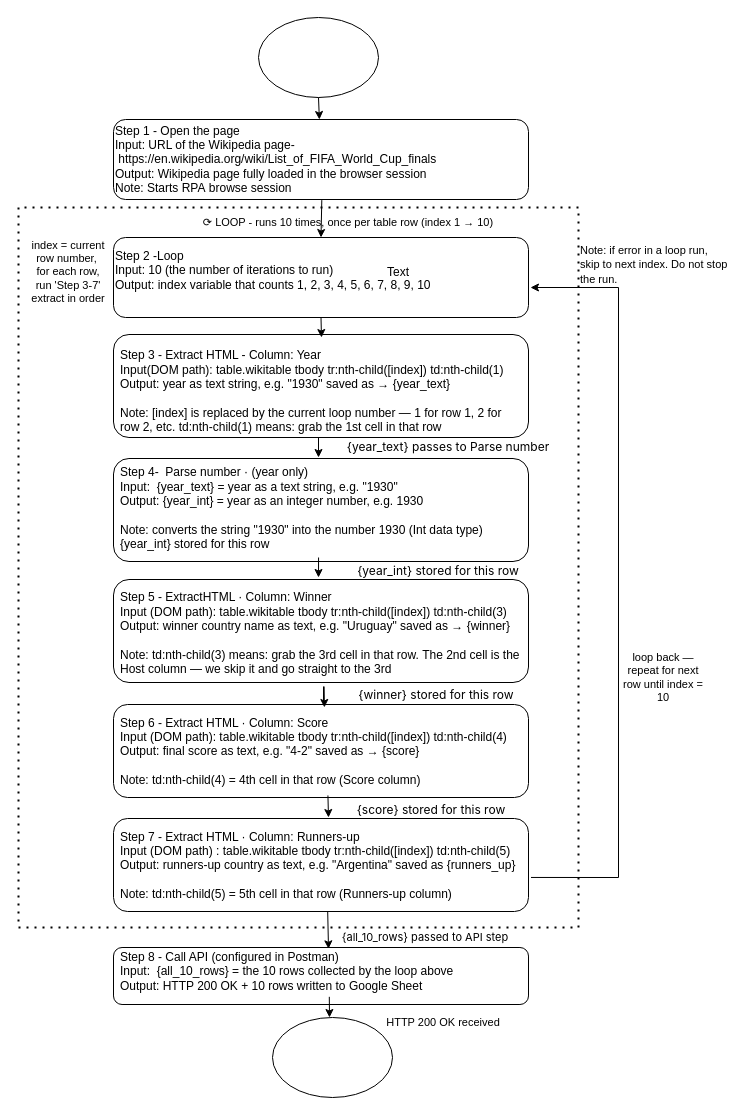
Image size: 745x1115. Some labels were removed from this diagram. The centre of each missing label's shape, as x and y in pixels:
End: point 332,1057
Start: point 318,57
